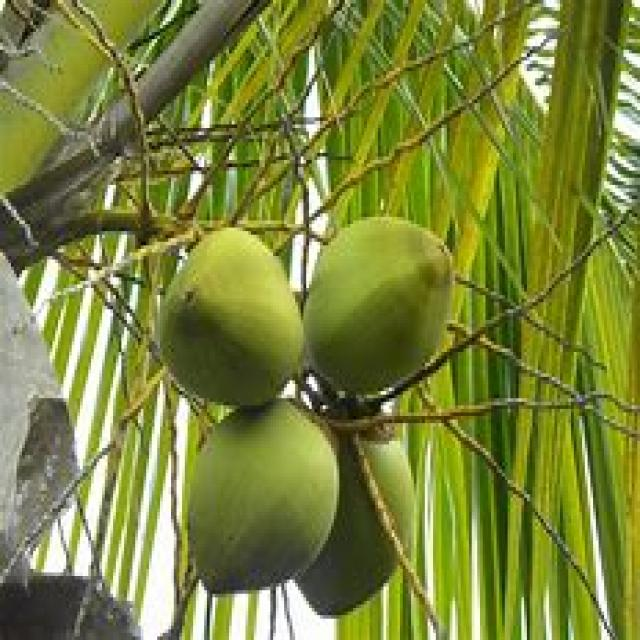coconut: (188, 411, 335, 598), (301, 219, 453, 392), (159, 217, 301, 395)
